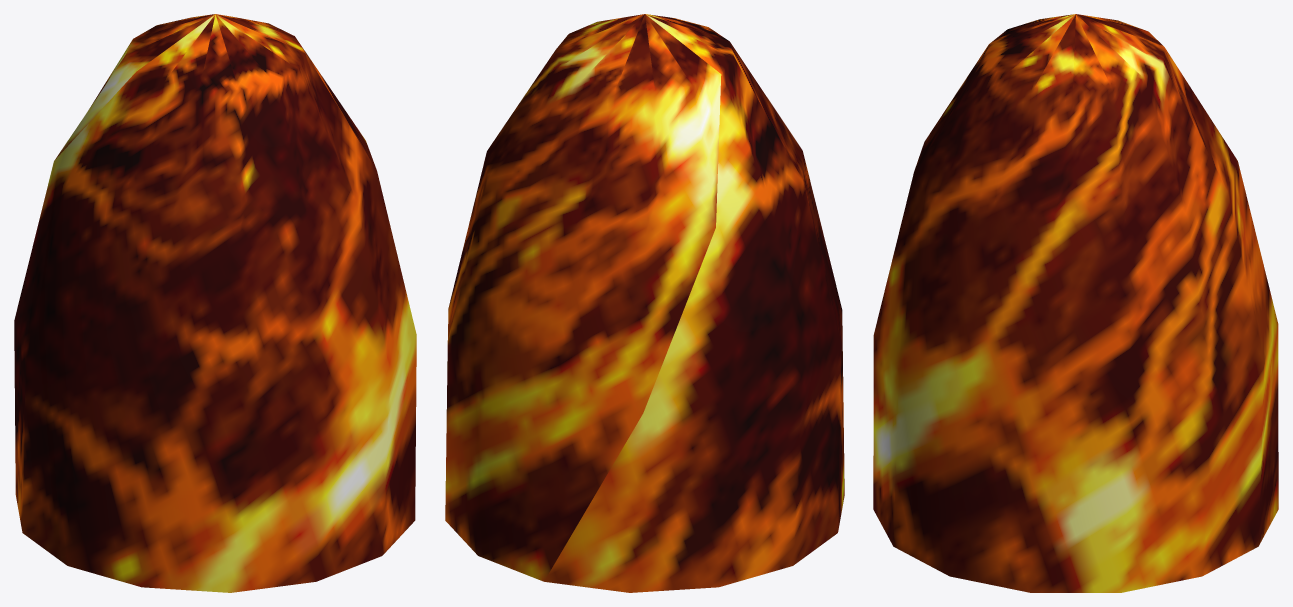
The model's file is yuanquanxieman.FBX.
3 renders of one model, left to right at view 1: azimuth 30°, elevation 25°; view 2: azimuth 150°, elevation 25°; view 3: azimuth 270°, elevation 25°, orthographic.
Visible parts, largest first — view 1: Sphere001; view 2: Sphere001; view 3: Sphere001.
Part boxes in pixels (<box>): Sphere001: <box>14,14,416,592</box>; Sphere001: <box>445,14,844,592</box>; Sphere001: <box>873,14,1278,592</box>.
Bounding box in the file's own units: 174 × 237 × 176.
